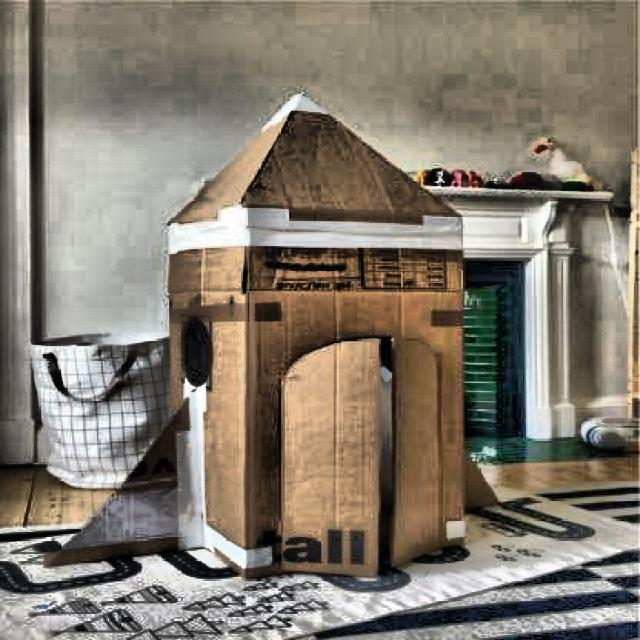Cardbox: (134, 84, 464, 577)
